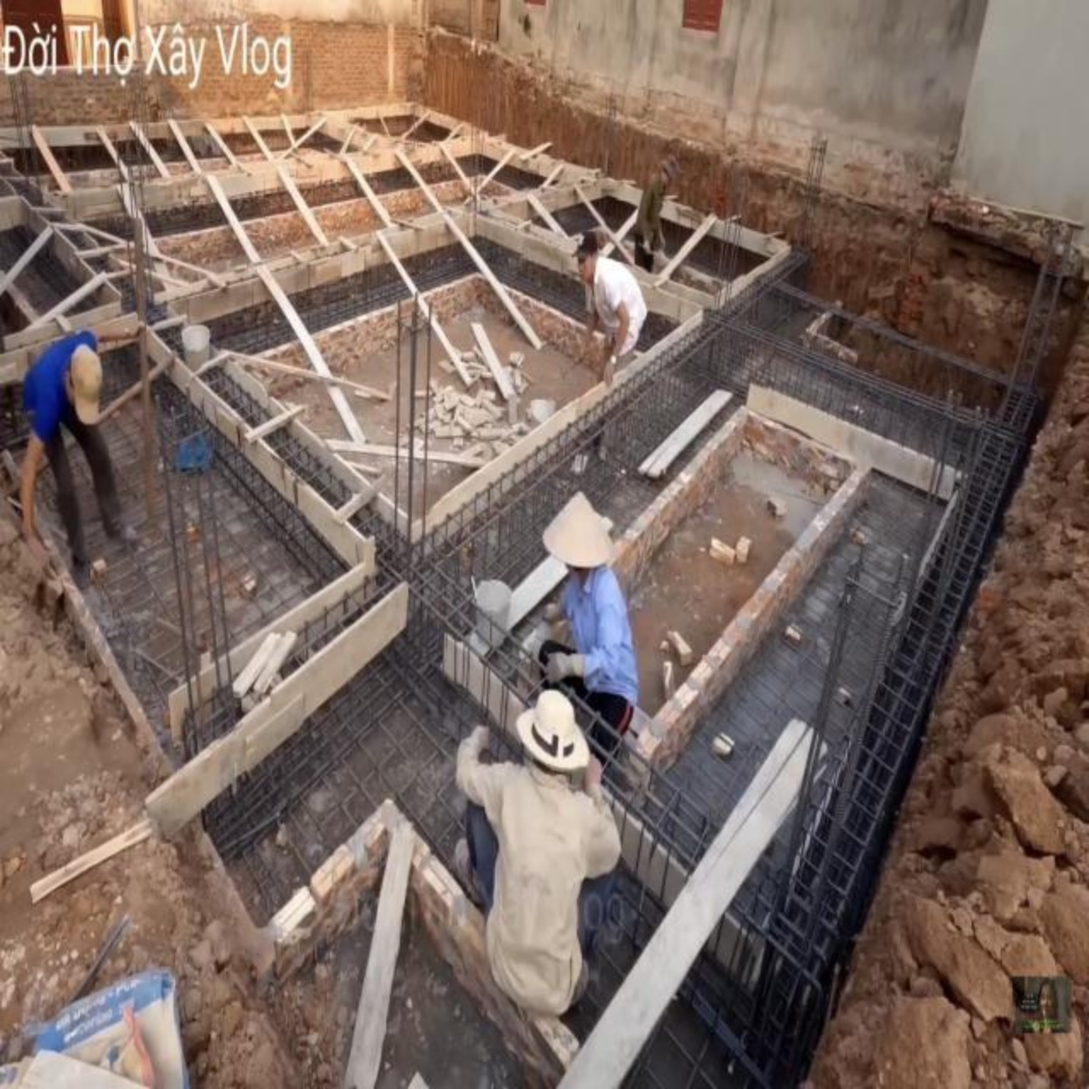no_helmet: (541, 489, 616, 579), (518, 692, 588, 778), (66, 344, 105, 425), (572, 229, 599, 288), (660, 154, 681, 193)
no_vest: (487, 761, 582, 1015), (562, 562, 643, 711), (24, 330, 99, 446), (584, 254, 648, 359), (635, 176, 665, 246)
person: (453, 691, 622, 1011), (19, 329, 138, 590), (539, 483, 638, 783), (572, 228, 647, 473), (633, 152, 681, 290)
